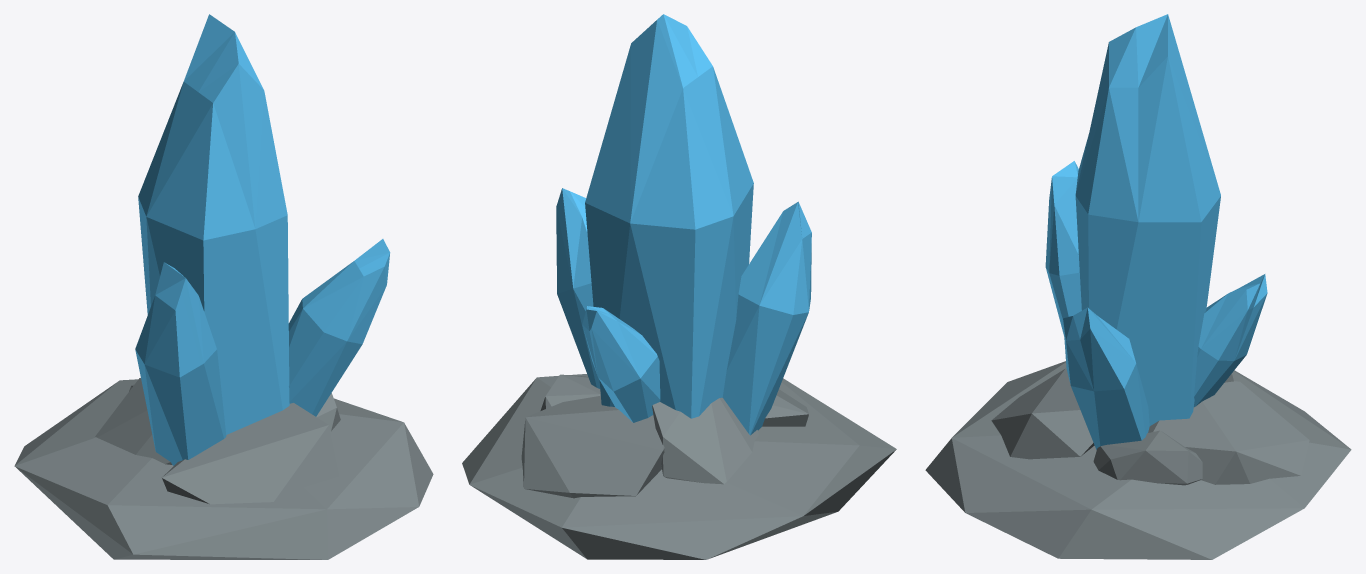
The model's file is Crystal_02.fbx.
3 views of the same model, side by side, from view 1: azimuth 30°, elevation 25°; view 2: azimuth 150°, elevation 25°; view 3: azimuth 270°, elevation 25° (orthographic).
Visible parts, largest first — view 1: Crystal_02; view 2: Crystal_02; view 3: Crystal_02.
Part boxes in pixels (x1,y1,x2,y2): Crystal_02: [14, 14, 433, 559]; Crystal_02: [462, 14, 896, 559]; Crystal_02: [925, 14, 1351, 559].
Size of the model in its own units: 40.64 by 55.09 by 44.13.
